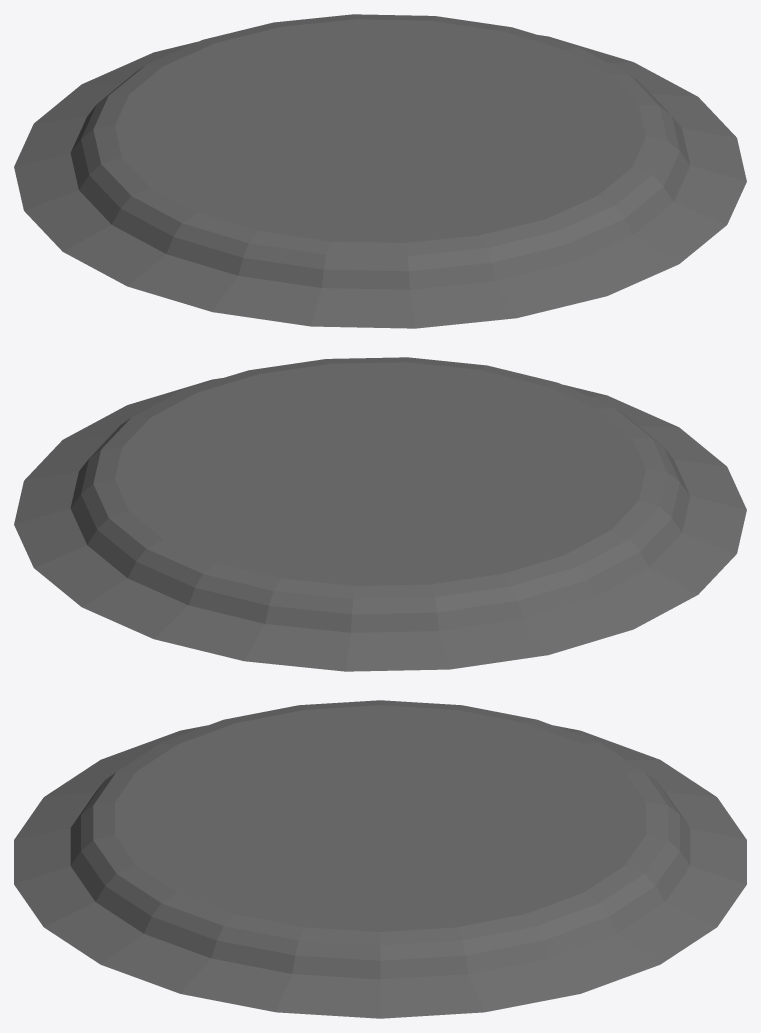
The model's file is curb-traffic-island.glb.
3 renders of one model, top to bottom at view 1: azimuth 30°, elevation 25°; view 2: azimuth 150°, elevation 25°; view 3: azimuth 270°, elevation 25°, orthographic.
Visible parts, largest first — view 1: curb-traffic-island; view 2: curb-traffic-island; view 3: curb-traffic-island.
Part boxes in pixels (bbox=[...]): curb-traffic-island: bbox=[14, 14, 746, 328]; curb-traffic-island: bbox=[14, 357, 746, 671]; curb-traffic-island: bbox=[14, 700, 746, 1018].
Bounding box in the file's own units: 3.6 × 0.2338 × 3.57.
Materials: 1 (1 with a texture image).
